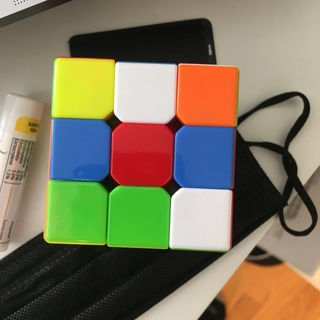face: (46, 60, 239, 252)
